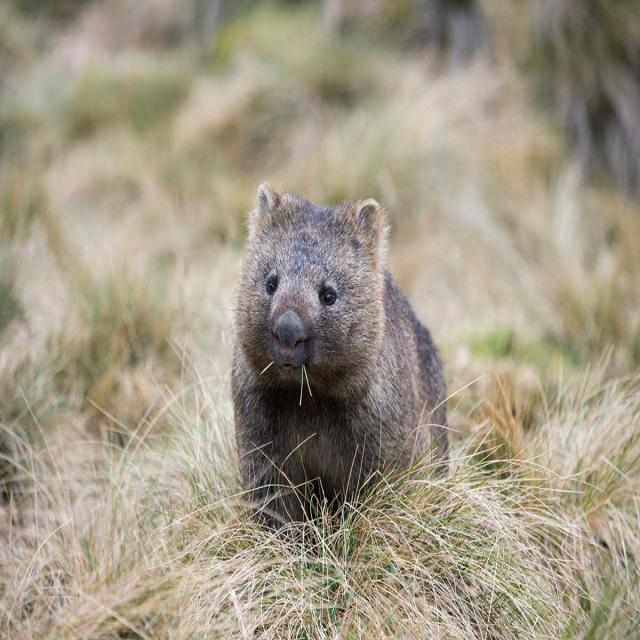Wombat: (225, 175, 454, 499)
